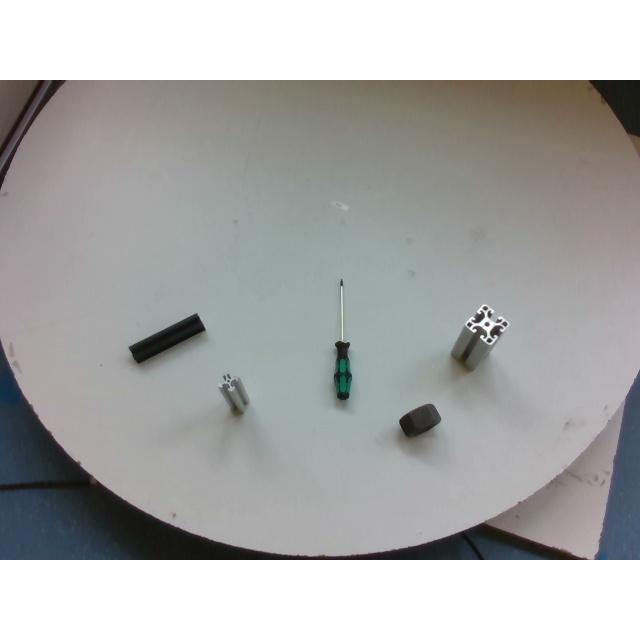F20_20_B: (130, 314, 204, 362)
F20_20_G: (218, 374, 250, 414)
M30: (400, 404, 440, 436)
S40_40_G: (451, 306, 509, 370)
Screwdriver: (334, 278, 350, 398)
